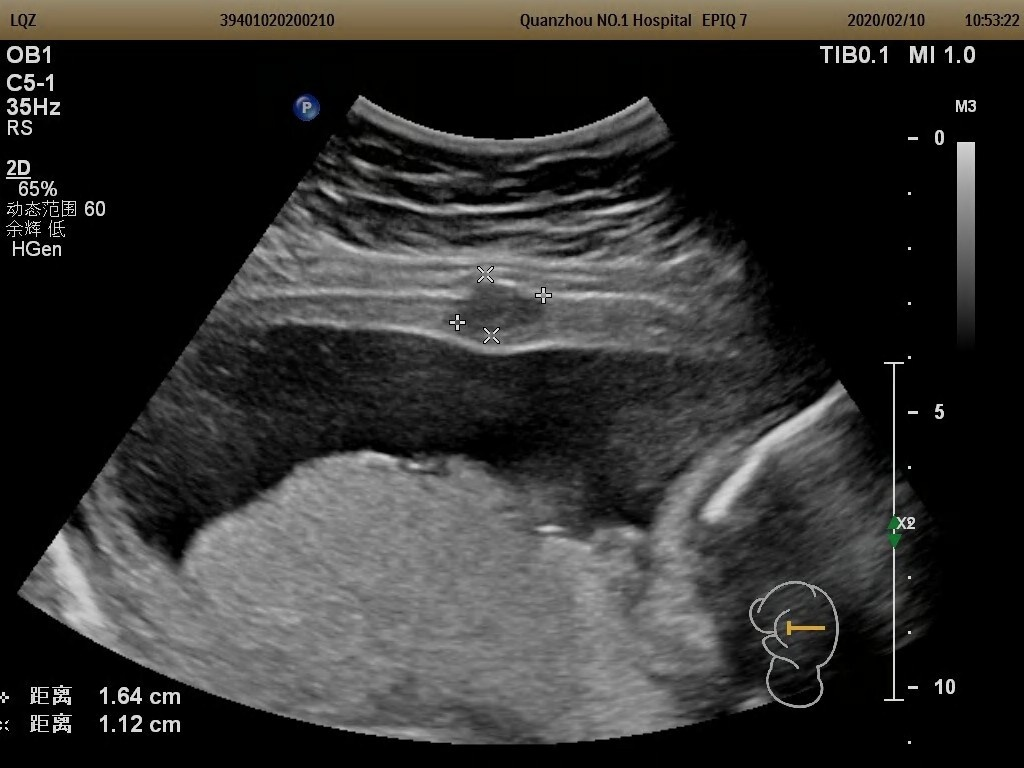肌瘤: (464, 289, 538, 328)
